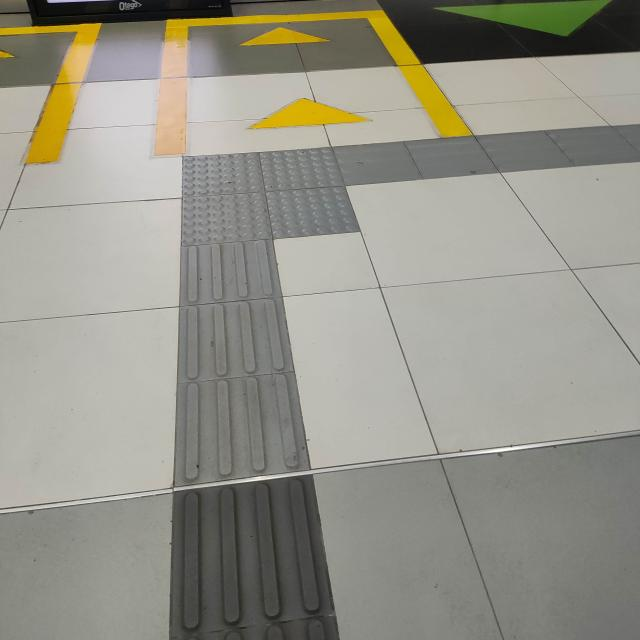kanan: (145, 124, 510, 270)
